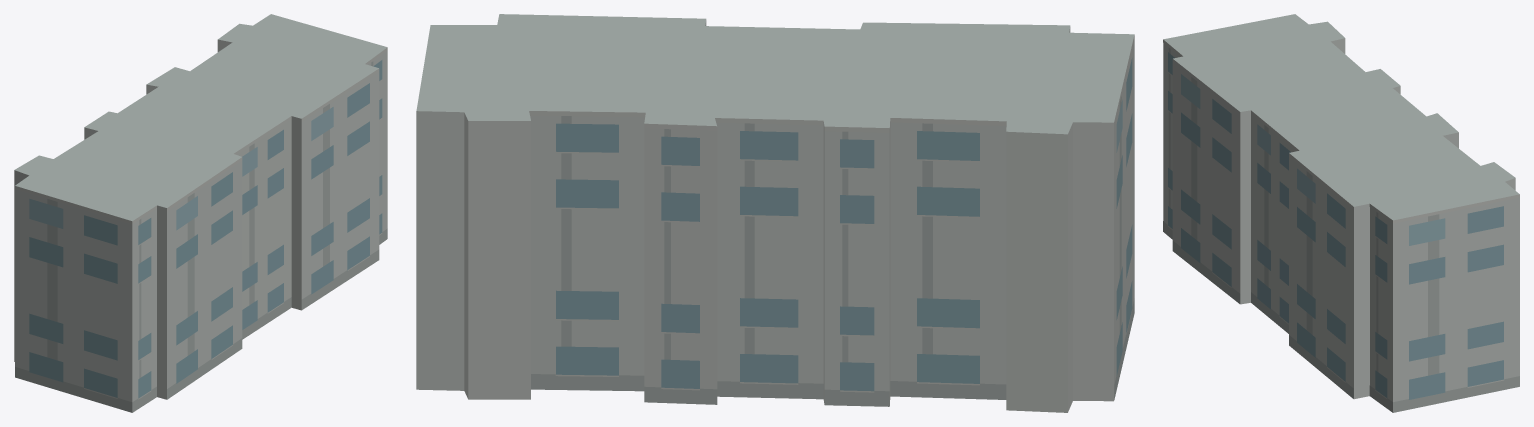
Rendered from survey-upis-32763851.glb.
3 views of the same model, side by side, from view 1: azimuth 30°, elevation 25°; view 2: azimuth 150°, elevation 25°; view 3: azimuth 270°, elevation 25° (orthographic). The views are drawn at different scales.
Visible parts, largest first — view 1: survey-upis-32763851.tmp; view 2: survey-upis-32763851.tmp; view 3: survey-upis-32763851.tmp.
Part boxes in pixels (<box>): survey-upis-32763851.tmp: <box>14,14,387,412</box>; survey-upis-32763851.tmp: <box>416,14,1134,412</box>; survey-upis-32763851.tmp: <box>1163,14,1519,412</box>.
Size of the model in its own units: 33.61 by 14.6 by 24.53.
